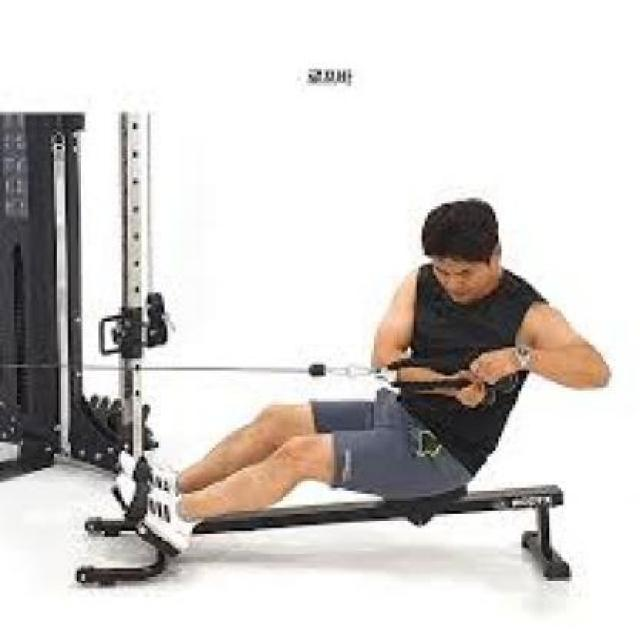Seated Cable Rows: (3, 106, 612, 625)
